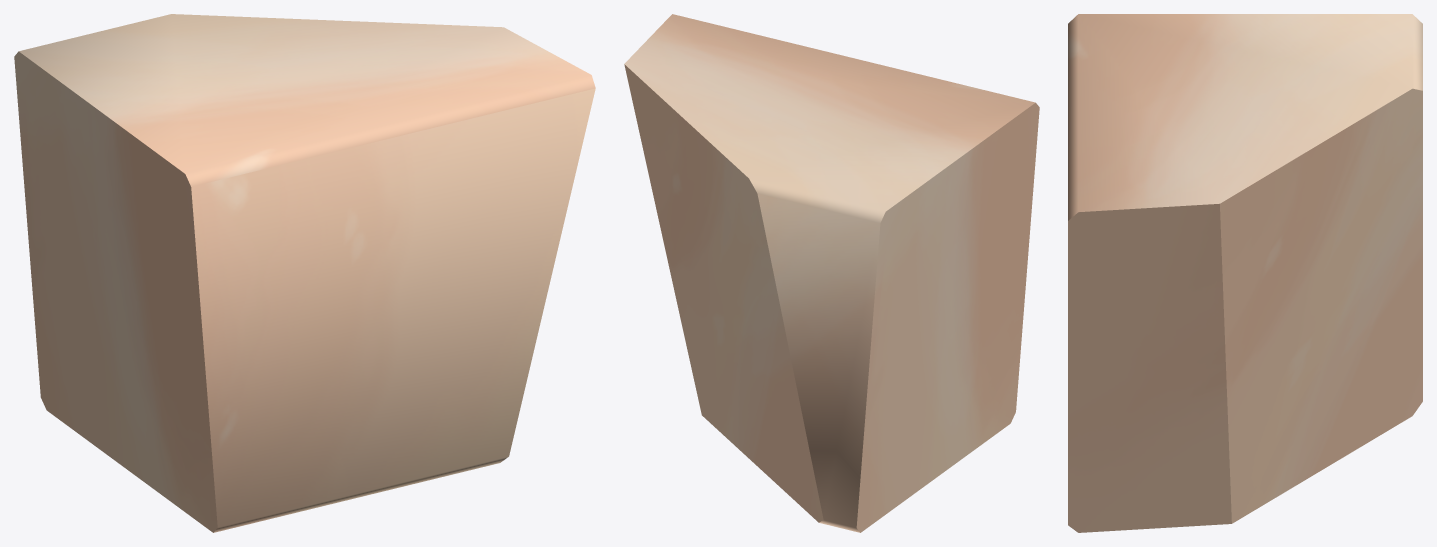
File: Block15.2.fbx
3 renders of one model, left to right at view 1: azimuth 30°, elevation 25°; view 2: azimuth 150°, elevation 25°; view 3: azimuth 270°, elevation 25°, orthographic. The views are drawn at different scales.
Parts seen in each view (by area): view 1: Block15.2; view 2: Block15.2; view 3: Block15.2.
Boxes of the visible parts, x1,y1,x2,y2 form: Block15.2: [14, 14, 595, 532]; Block15.2: [624, 14, 1039, 532]; Block15.2: [1068, 14, 1422, 532].
Bounding box in the file's own units: 0.8614 × 0.7413 × 0.6519.
